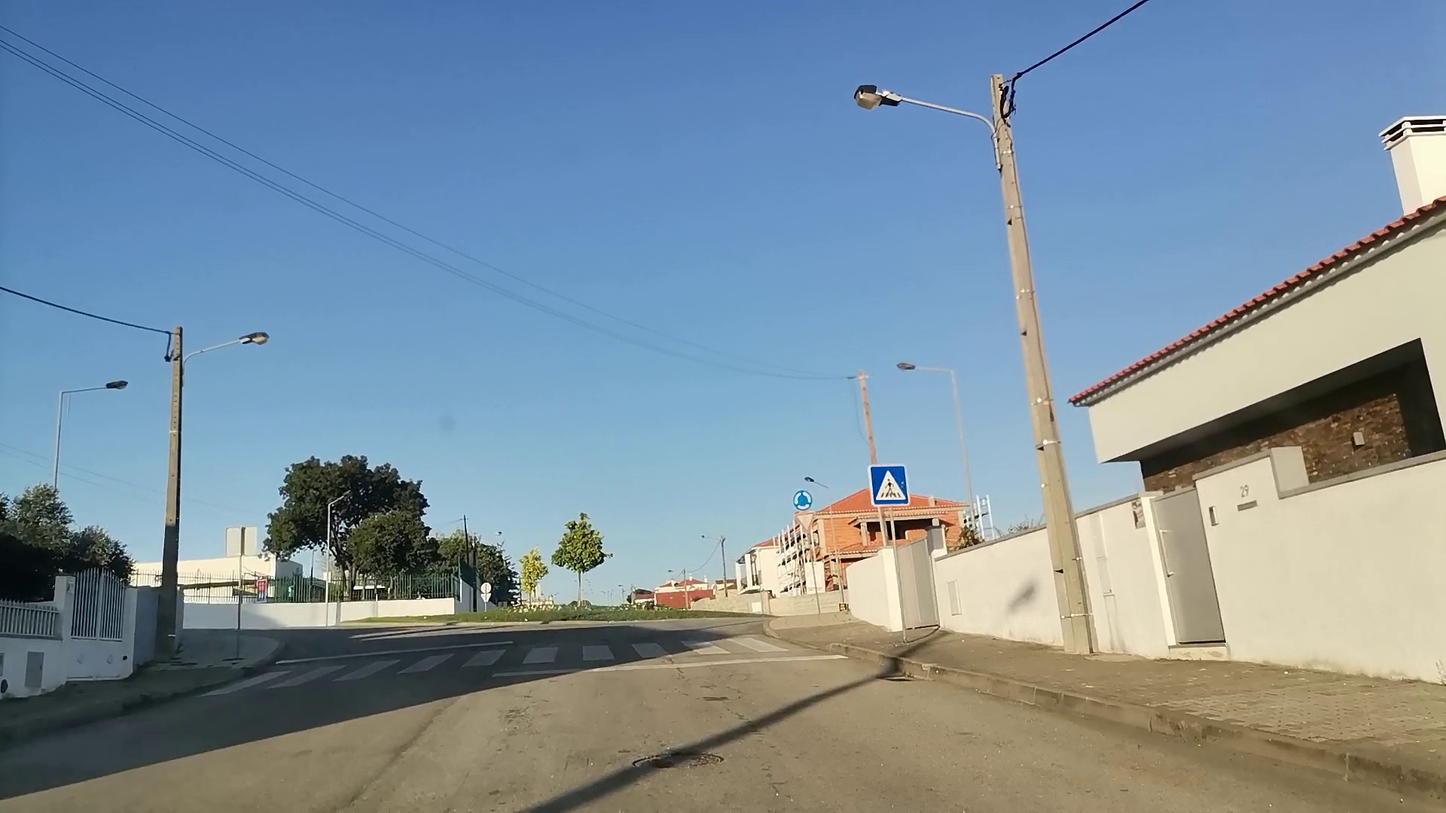Stairs: (196, 635, 791, 698)
